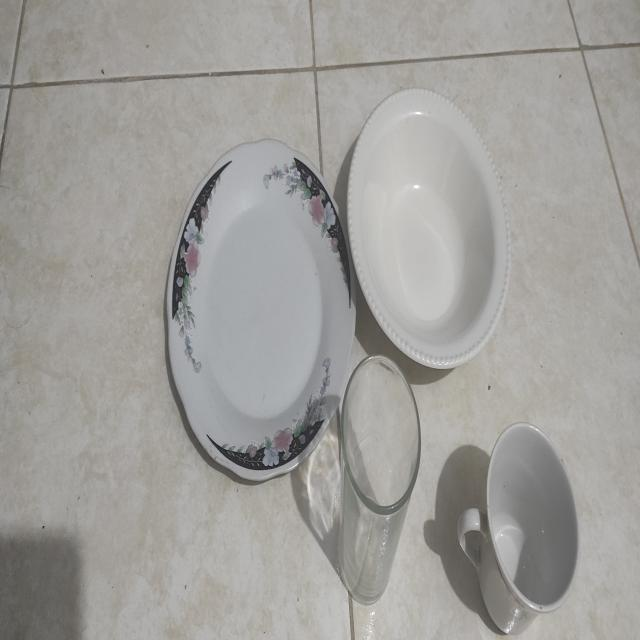non-organic waste: (158, 127, 367, 497), (340, 82, 530, 378)
